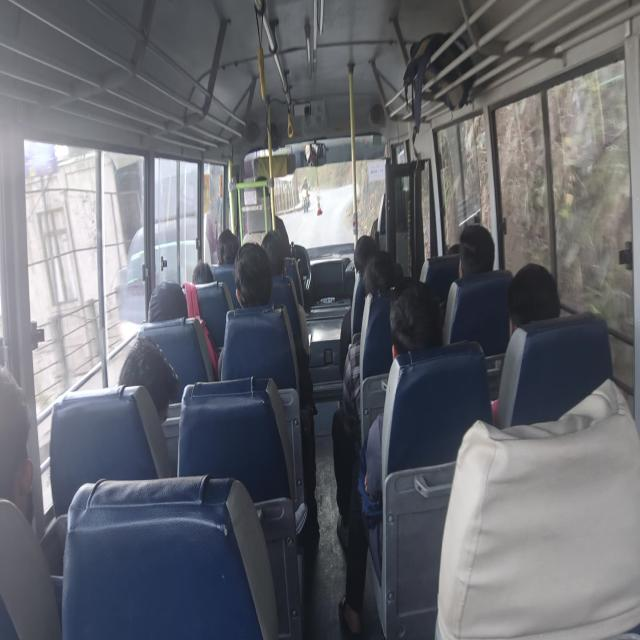person: (337, 278, 444, 638), (217, 241, 319, 544), (333, 250, 397, 544), (0, 364, 63, 638), (490, 262, 561, 422), (260, 229, 311, 358), (443, 223, 495, 343), (117, 335, 180, 424), (339, 234, 377, 378), (0, 364, 34, 524), (506, 262, 560, 338), (232, 241, 272, 308), (457, 223, 495, 279), (148, 280, 188, 322), (363, 250, 395, 296), (216, 228, 239, 265), (192, 260, 214, 285)
